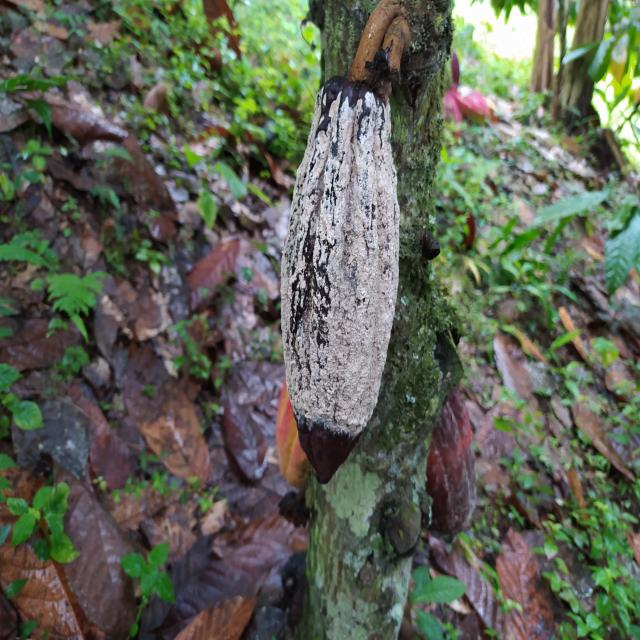Monilia: (282, 81, 402, 482)
